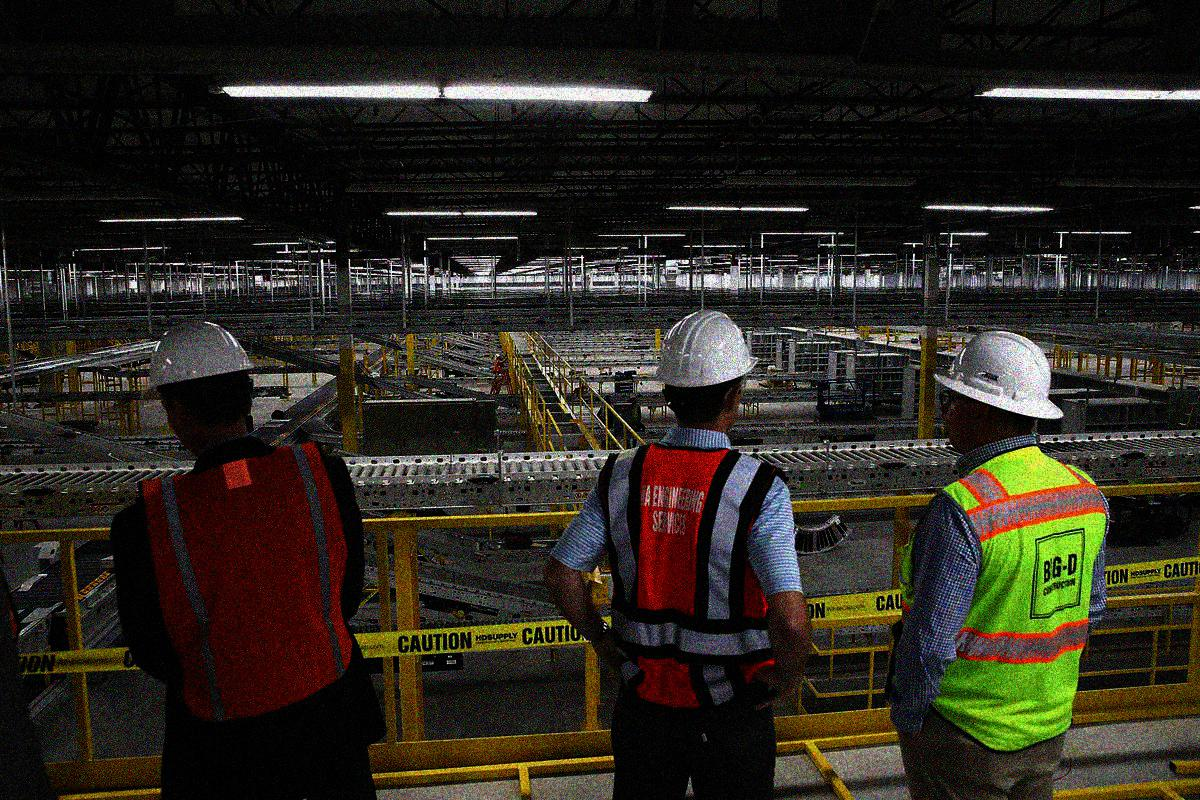helmet: (931, 325, 1066, 451), (143, 316, 260, 447), (657, 303, 759, 434)
